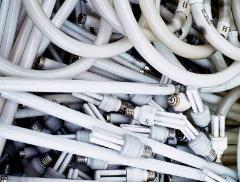lightbulb: (0, 0, 240, 182), (166, 95, 180, 107)
